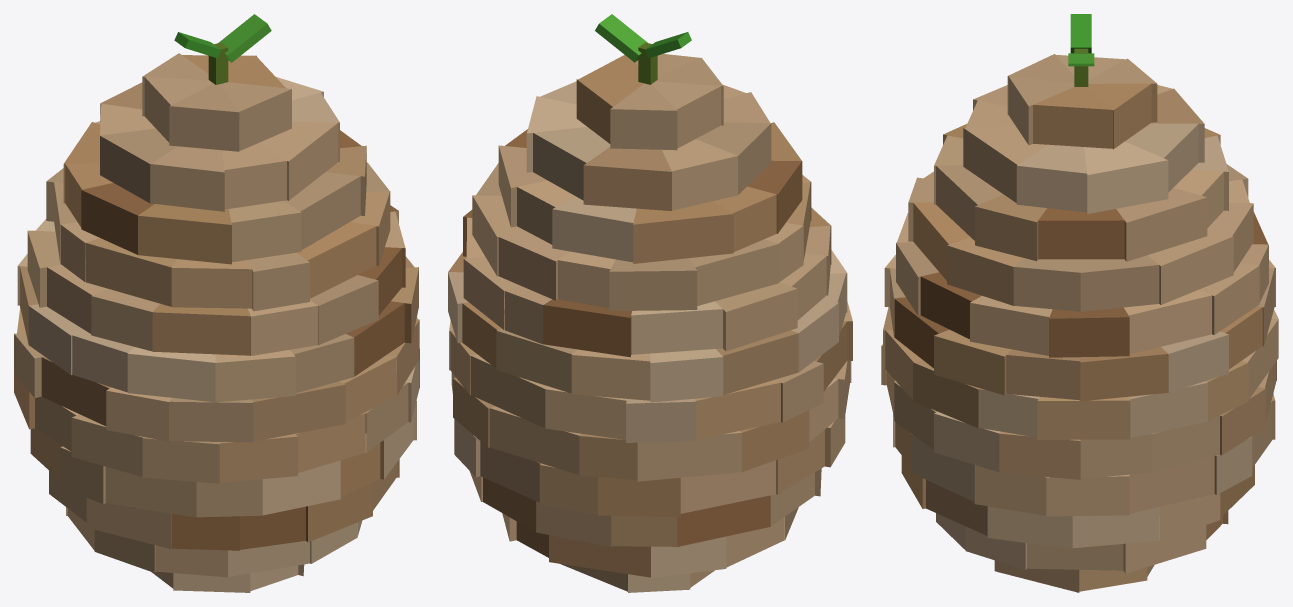
Rendered from forest_egg.glb.
3 renders of one model, left to right at view 1: azimuth 30°, elevation 25°; view 2: azimuth 150°, elevation 25°; view 3: azimuth 270°, elevation 25°, orthographic.
Parts seen in each view (by area): view 1: forest_egg; view 2: forest_egg; view 3: forest_egg.
Part boxes in pixels (x1,y1,x2,y2): forest_egg: (14,14,419,592); forest_egg: (448,14,852,592); forest_egg: (881,14,1278,592).
Size of the model in its own units: 0.8637 by 1.22 by 0.8478.
